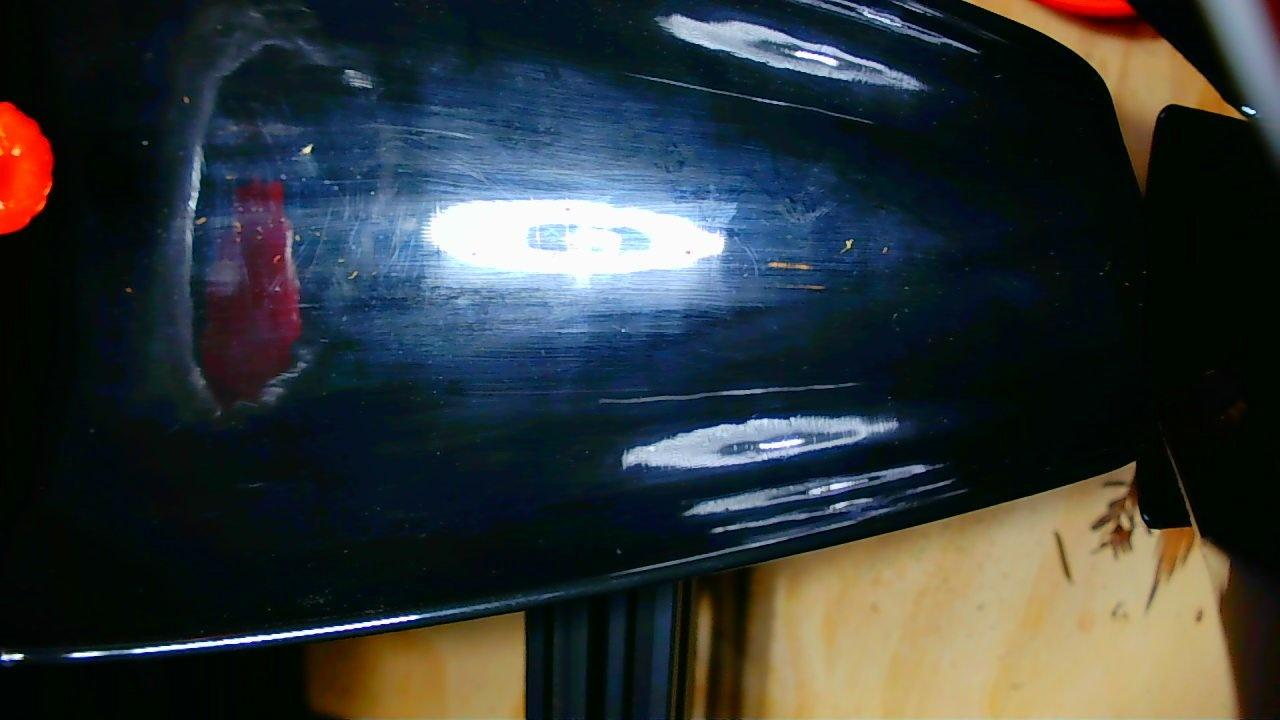berry: (0, 102, 53, 234)
